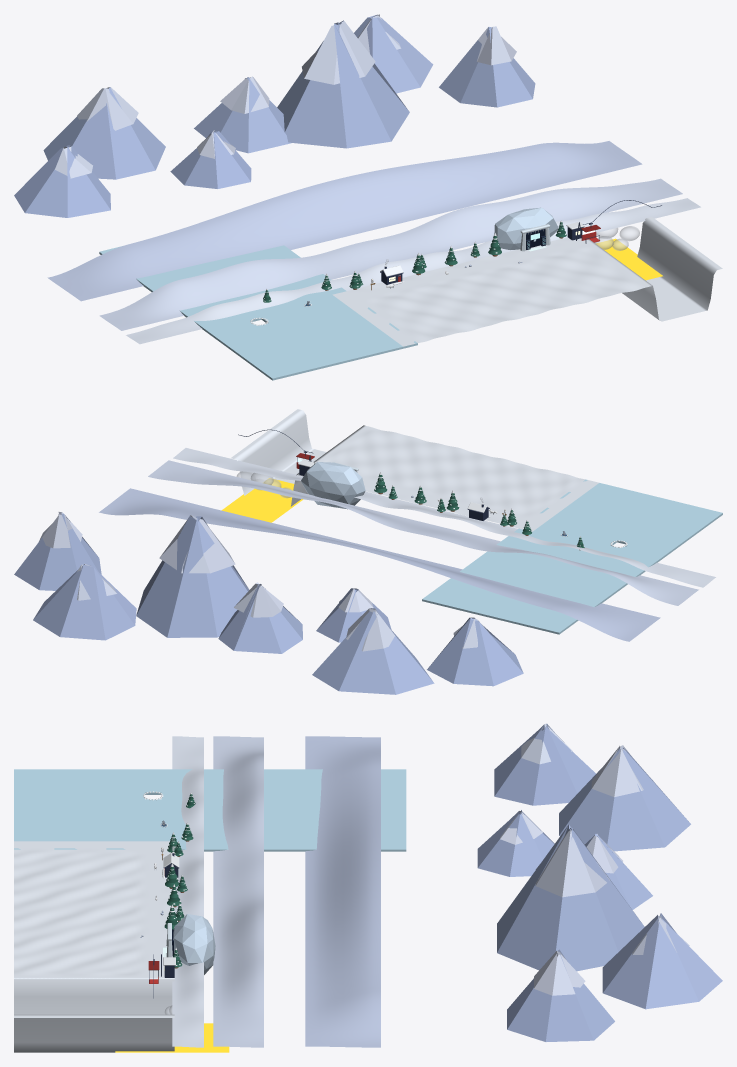
File: snow.glb
3 views of the same model, one above another, from view 1: azimuth 30°, elevation 25°; view 2: azimuth 150°, elevation 25°; view 3: azimuth 270°, elevation 25° (orthographic). The views are drawn at different scales.
Parts seen in each view (by area): view 1: Static, Hill3, Ground, Hill2, Ice, Hill1, Static.fx10, Static.fx11; view 2: Static, Ice, Ground, Hill3, Hill2, Hill1, Static.fx10; view 3: Static, Ground, Hill3, Ice, Hill2, Hill1, Static.fx10.
Boxes of the visible parts, left/top/right/bottom form: Static: left=14, top=14, right=661, bottom=325; Hill3: left=47, top=141, right=642, bottom=301; Ground: left=332, top=217, right=722, bottom=346; Hill2: left=99, top=178, right=682, bottom=330; Ice: left=99, top=245, right=417, bottom=380; Hill1: left=126, top=198, right=700, bottom=344; Static.fx10: left=596, top=238, right=662, bottom=280; Static.fx11: left=595, top=226, right=639, bottom=250; Static: left=14, top=429, right=627, bottom=694; Ice: left=422, top=479, right=722, bottom=634; Ground: left=231, top=409, right=598, bottom=531; Hill3: left=99, top=488, right=660, bottom=641; Hill2: left=148, top=460, right=698, bottom=605; Hill1: left=173, top=448, right=715, bottom=587; Static.fx10: left=221, top=478, right=303, bottom=522; Static: left=140, top=723, right=722, bottom=1041; Ground: left=14, top=841, right=174, bottom=1052; Hill3: left=305, top=736, right=380, bottom=1047; Ice: left=14, top=769, right=406, bottom=851; Hill2: left=213, top=736, right=263, bottom=1047; Hill1: left=172, top=736, right=203, bottom=1047; Static.fx10: left=115, top=1023, right=229, bottom=1052.
Bounding box in the file's own units: 116 × 27.39 × 112.
